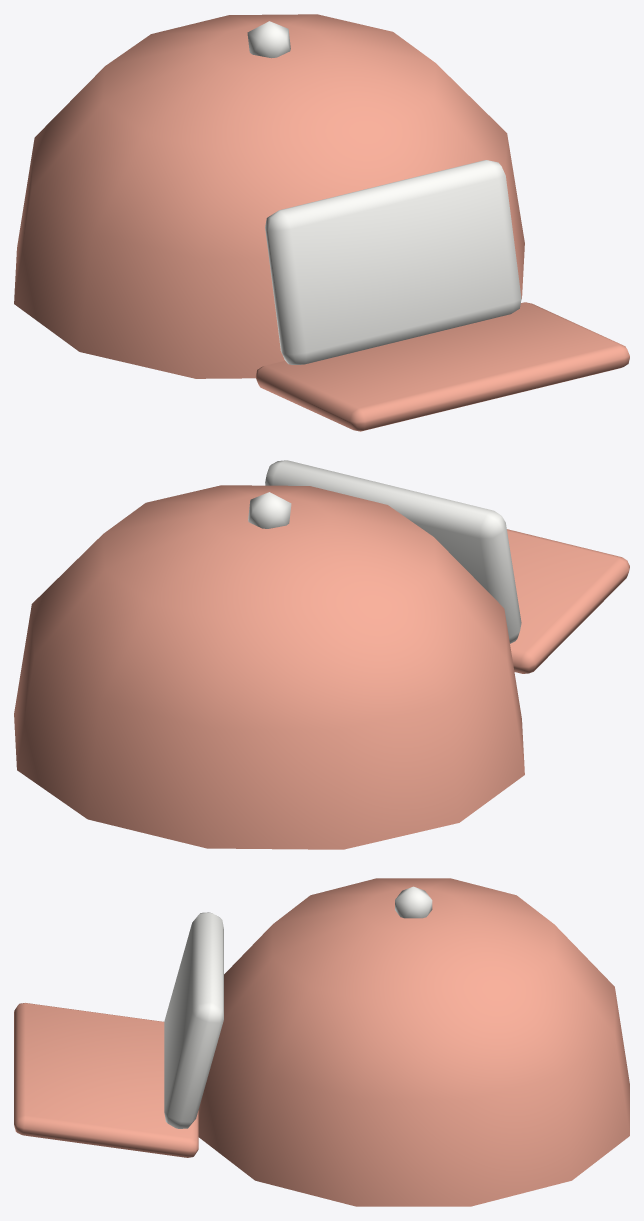
The model's file is CharHatCap.fbx.
The picture shows the model from 3 angles, top to bottom: view 1: azimuth 30°, elevation 25°; view 2: azimuth 150°, elevation 25°; view 3: azimuth 270°, elevation 25°; orthographic projection. The views are drawn at different scales.
Visible parts, largest first — view 1: CharHatCap; view 2: CharHatCap; view 3: CharHatCap.
Part boxes in pixels (left/top/right/bottom): CharHatCap: left=14, top=14, right=629, bottom=431; CharHatCap: left=14, top=460, right=629, bottom=849; CharHatCap: left=14, top=878, right=629, bottom=1206.
Bounding box in the file's own units: 0.4153 × 0.225 × 0.5615.
